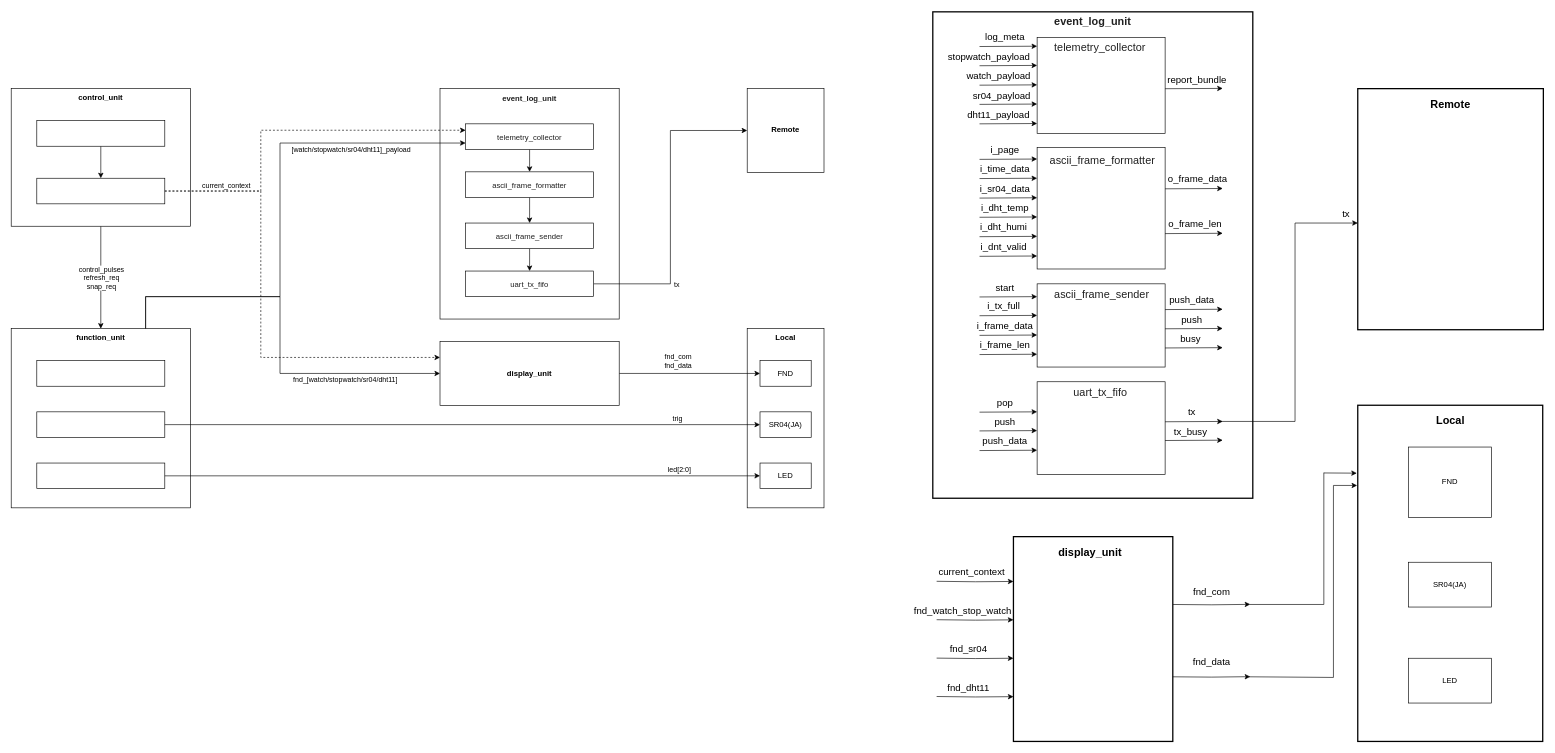
Image size: 1555x753. Some labels were removed from this diagram. The centre of each missing label's shape, as x and y in pixels:
"context_action_dispatcher" goes at point (100, 191).
"control_event_arbiter" goes at point (100, 133).
"dht11_unit" goes at point (100, 475).
"sr04_unit" goes at point (100, 424).
"watch_stopwatch_unit" goes at point (100, 373).
